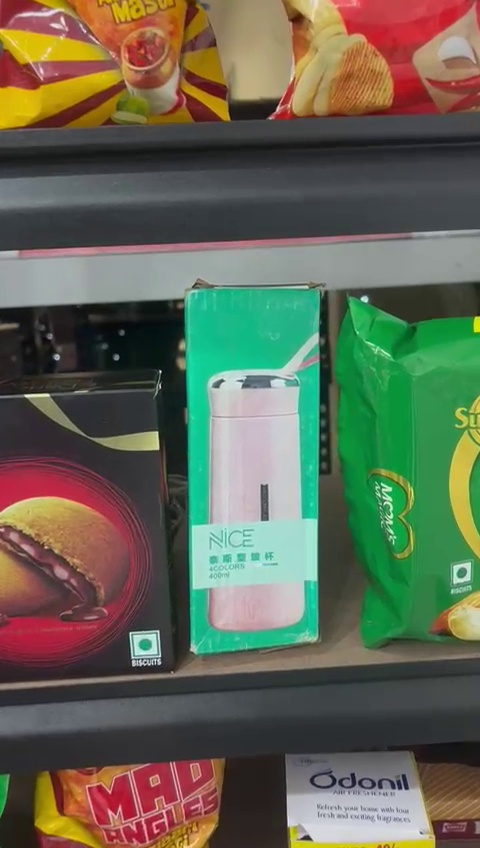Bottle: (181, 284, 319, 646)
